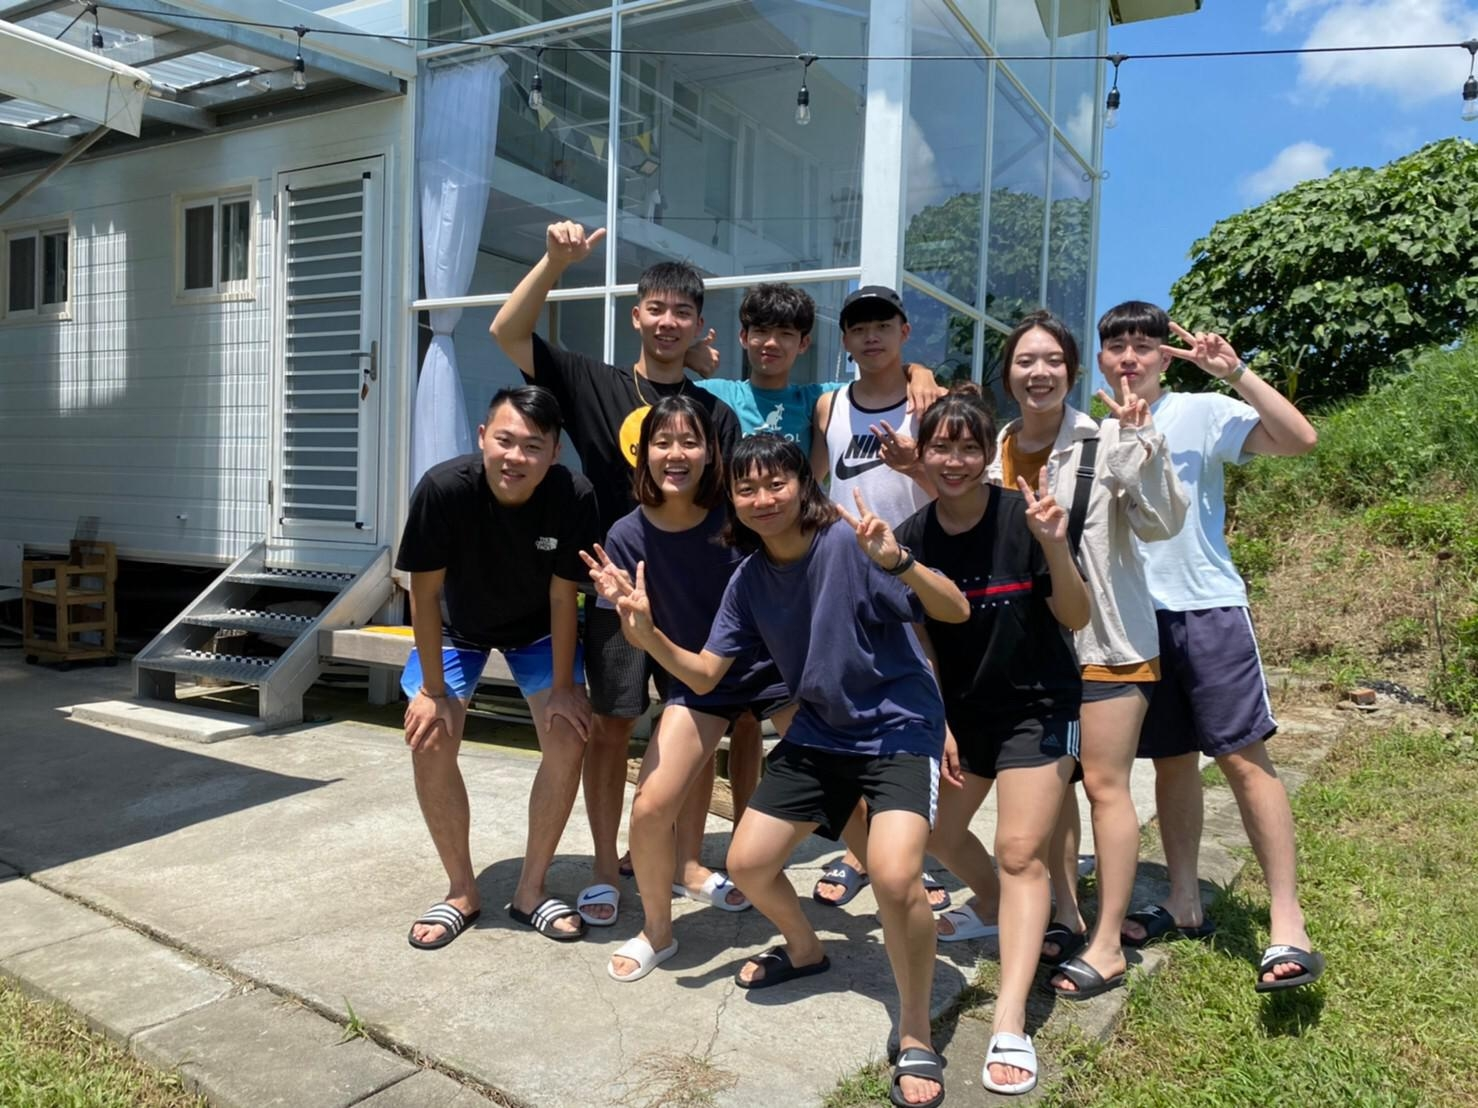people: (1096, 294, 1317, 990), (727, 444, 946, 1082), (571, 257, 733, 921), (913, 402, 1056, 1092), (421, 386, 583, 940), (1000, 307, 1127, 988), (731, 282, 846, 852), (625, 394, 752, 902), (838, 288, 940, 869)
